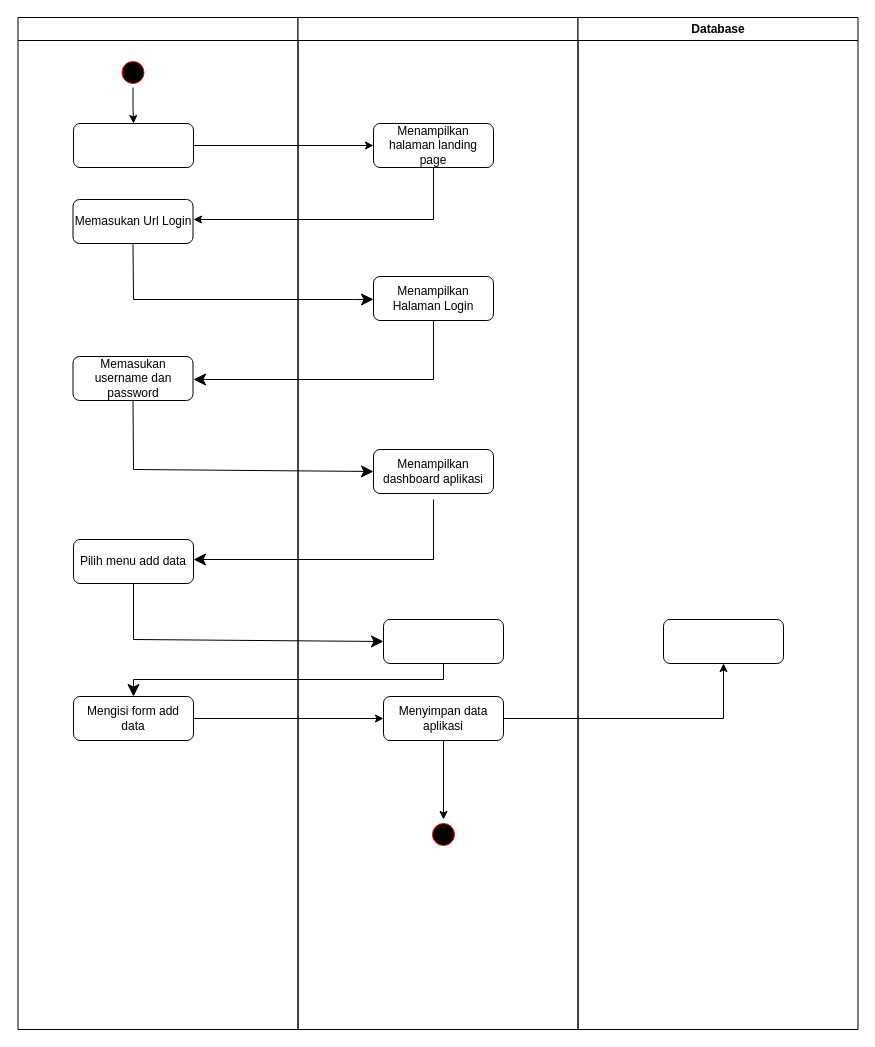
The diagram is 875 pixels wide and 1047 high, and some of its shapes have lost their labels. Here are the shapes that lost their labels. From the top down, the box of each, then its label:
(72, 122, 194, 168): Buka Aplikasi Web SEMA
(17, 16, 298, 1030): Kepala Seksi
(297, 16, 578, 1030): System
(382, 618, 504, 664): Menampilkan form data aplikasi
(662, 618, 784, 664): Database aplikasi
